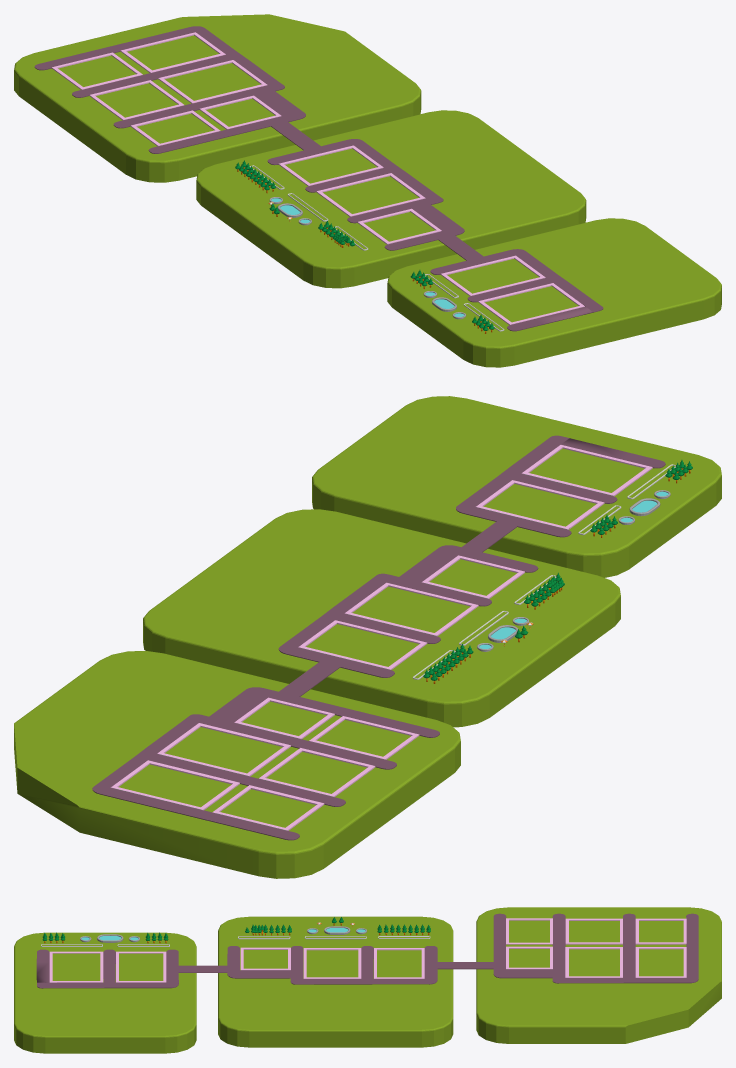
The model's file is IslandNew.fbx.
3 renders of one model, top to bottom at view 1: azimuth 30°, elevation 25°; view 2: azimuth 150°, elevation 25°; view 3: azimuth 270°, elevation 25°, orthographic. The views are drawn at different scales.
Parts seen in each view (by area): view 1: Cube.007, Cube.006, Cube, TRAFFIC_FULL.024, TRAFFIC_FULL.014, TRAFFIC_FULL.003, TRAFFIC_FULL.004, TRAFFIC_FULL.006, TRAFFIC_FULL.007, TRAFFIC_FULL.002, TRAFFIC_FULL.016; view 2: Cube.007, Cube.006, Cube, TRAFFIC_FULL.024, TRAFFIC_FULL.014, TRAFFIC_FULL.003, TRAFFIC_FULL.006, TRAFFIC_FULL.004, TRAFFIC_FULL.007, TRAFFIC_FULL.002, TRAFFIC_FULL.016; view 3: Cube.006, Cube.007, Cube, TRAFFIC_FULL.024, TRAFFIC_FULL.014, TRAFFIC_FULL.003, TRAFFIC_FULL.007, TRAFFIC_FULL.004, TRAFFIC_FULL.006, TRAFFIC_FULL.002, TRAFFIC_FULL.016.
Part boxes in pixels (x1,y1,x2,y2): Cube.007: (14,14,421,182); Cube.006: (196,110,586,288); Cube: (387,218,721,367); TRAFFIC_FULL.024: (34,26,305,153); TRAFFIC_FULL.014: (267,122,464,250); TRAFFIC_FULL.003: (430,235,603,331); TRAFFIC_FULL.004: (278,145,441,244); TRAFFIC_FULL.006: (120,32,281,129); TRAFFIC_FULL.007: (52,52,220,146); TRAFFIC_FULL.002: (478,283,584,325); TRAFFIC_FULL.016: (440,255,545,296); Cube.007: (14,651,460,878); Cube.006: (143,509,620,727); Cube: (312,396,721,577); TRAFFIC_FULL.024: (92,687,439,840); TRAFFIC_FULL.014: (278,545,538,696); TRAFFIC_FULL.003: (456,435,665,552); TRAFFIC_FULL.006: (110,697,334,810); TRAFFIC_FULL.004: (298,555,524,669); TRAFFIC_FULL.007: (212,716,419,830); TRAFFIC_FULL.002: (521,445,652,496); TRAFFIC_FULL.016: (476,480,604,529); Cube.006: (218,916,453,1047); Cube.007: (476,907,721,1043); Cube: (14,932,196,1053); TRAFFIC_FULL.024: (493,913,698,983); TRAFFIC_FULL.014: (227,946,493,984); TRAFFIC_FULL.003: (36,949,228,988); TRAFFIC_FULL.007: (506,918,686,944); TRAFFIC_FULL.004: (240,947,424,978); TRAFFIC_FULL.006: (506,946,686,977); TRAFFIC_FULL.002: (49,951,103,982); TRAFFIC_FULL.016: (116,951,166,982).
Size of the model in its own units: 315 by 31.36 by 726.
